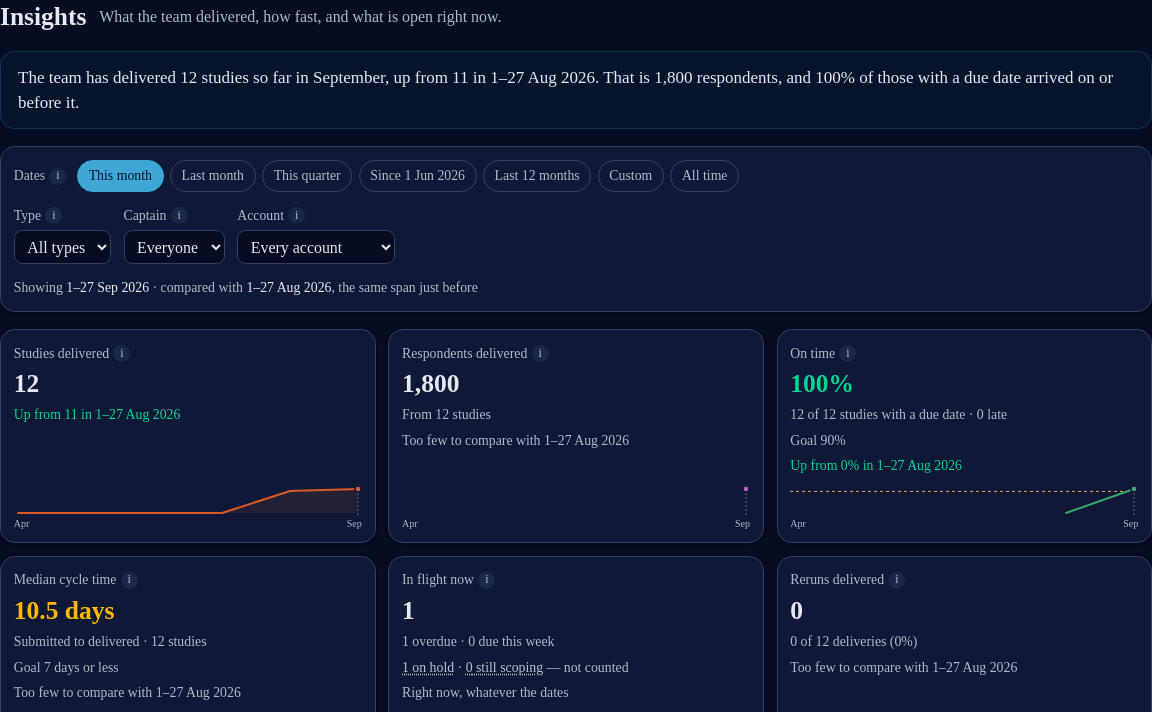
InsightsDashboard › a clicked tile lists exactly its surveys, each a real link
Click the button "12" at (27, 384), box [14,368,39,400]
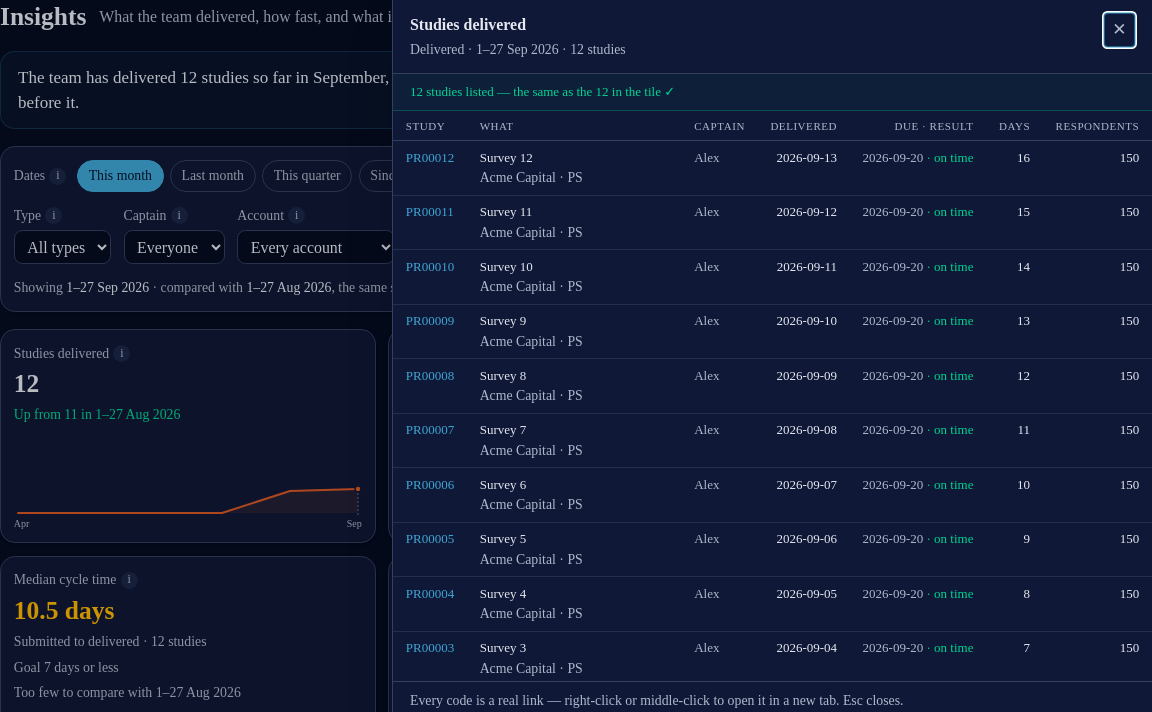
Now the text "12 studies listed — the same as the 12 in the tile ✓" is shown, box [393,74,1151,111]
